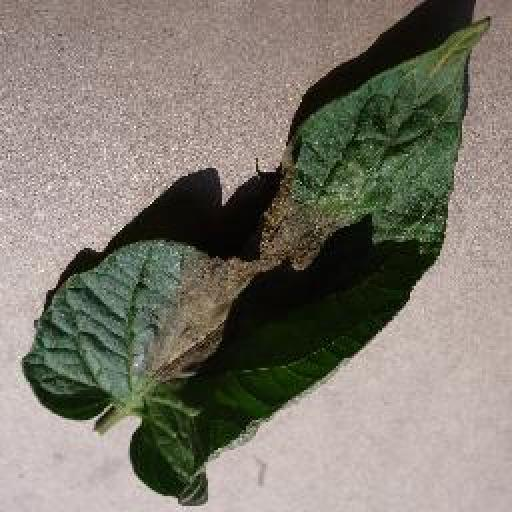Late Blight: (24, 13, 491, 508)
